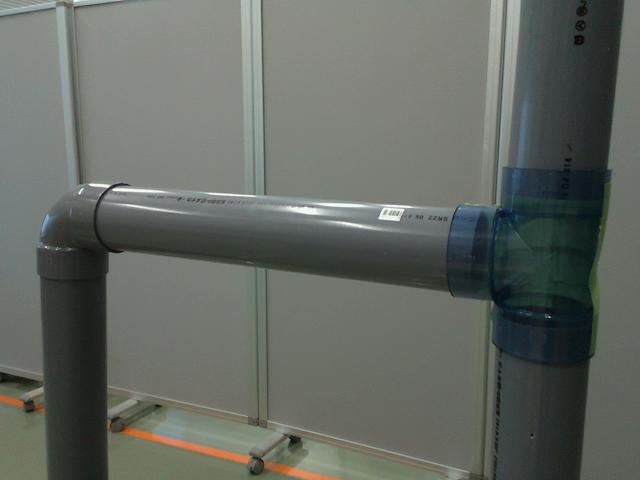bent: (39, 181, 134, 278)
junction: (453, 167, 610, 372)
